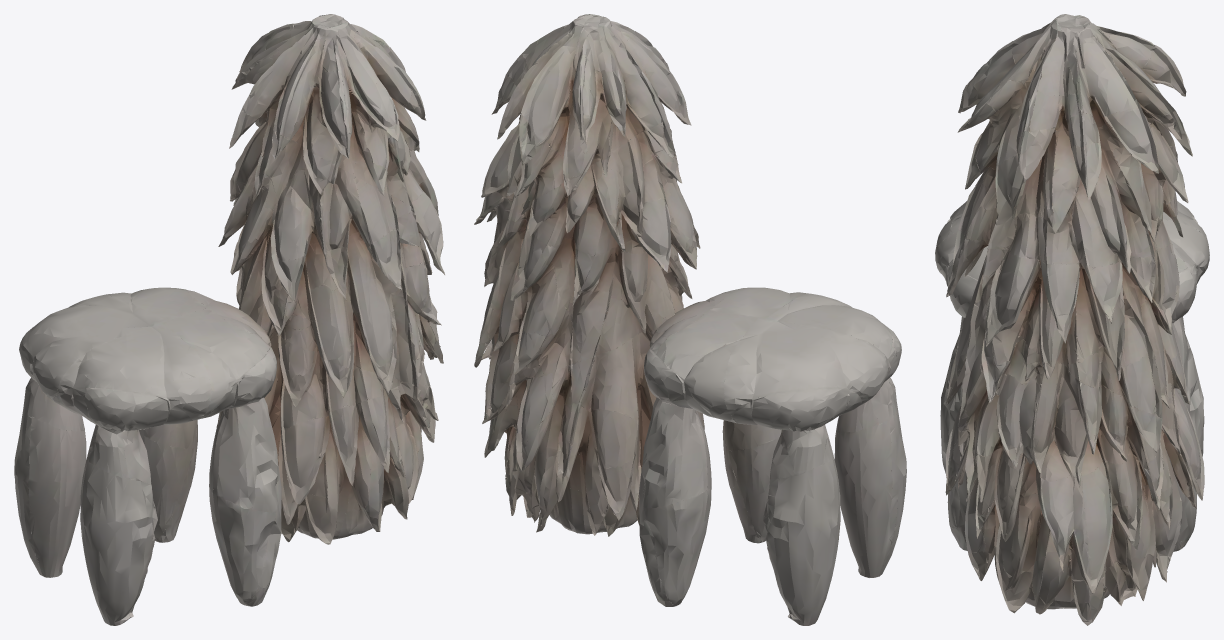
File: 06_1_yellowdot_monster_chair.glb
3 renders of one model, left to right at view 1: azimuth 30°, elevation 25°; view 2: azimuth 150°, elevation 25°; view 3: azimuth 270°, elevation 25°, orthographic. The views are drawn at different scales.
Visible parts, largest first — view 1: tripo_node_09ffea89-5e0e-445a-837c-f3a5a67d5015; view 2: tripo_node_09ffea89-5e0e-445a-837c-f3a5a67d5015; view 3: tripo_node_09ffea89-5e0e-445a-837c-f3a5a67d5015.
Boxes of the visible parts, x1,y1,x2,y2 form: tripo_node_09ffea89-5e0e-445a-837c-f3a5a67d5015: (14,14,444,625); tripo_node_09ffea89-5e0e-445a-837c-f3a5a67d5015: (474,14,906,625); tripo_node_09ffea89-5e0e-445a-837c-f3a5a67d5015: (935,14,1209,625).
Bounding box in the file's own units: 0.7164 × 0.9048 × 0.3793.
1 material, 1 textured.
